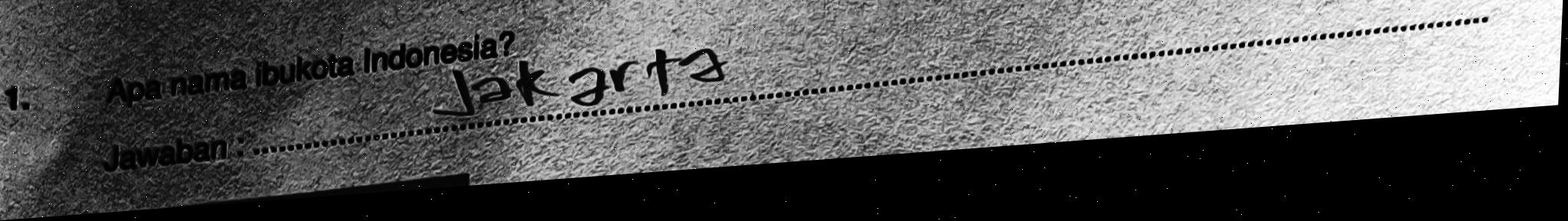jawaban: (424, 32, 745, 126)
